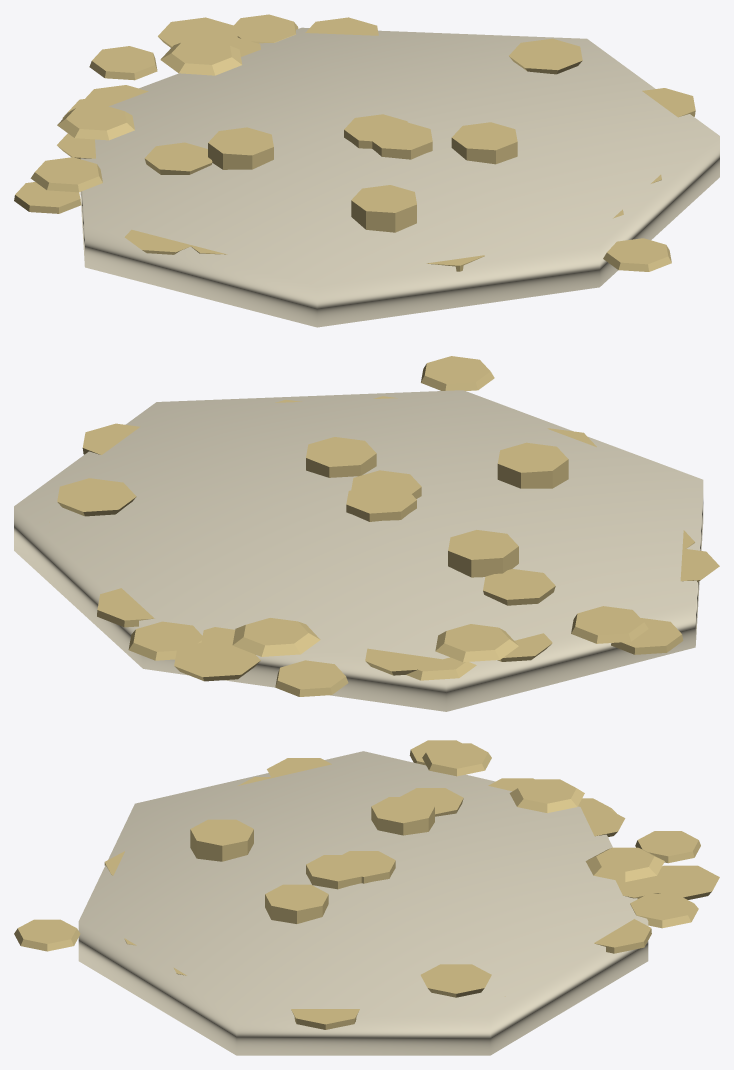
File: sunken-city-and-underwater-ruins-scattered-coins-71d33cdd__36972.glb
3 views of the same model, one above another, from view 1: azimuth 30°, elevation 25°; view 2: azimuth 150°, elevation 25°; view 3: azimuth 270°, elevation 25° (orthographic). The views are drawn at different scales.
Parts seen in each view (by area): view 1: scattered-coins; view 2: scattered-coins; view 3: scattered-coins.
Boxes of the visible parts, box(x1,y1,x2,y2) form: scattered-coins: box(14, 14, 719, 327); scattered-coins: box(14, 356, 719, 711); scattered-coins: box(14, 740, 719, 1055).
Bounding box in the file's own units: 1.24 × 0.17 × 1.3.
